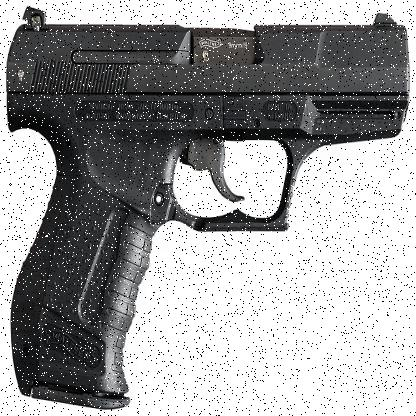pistol: (8, 2, 410, 408)
